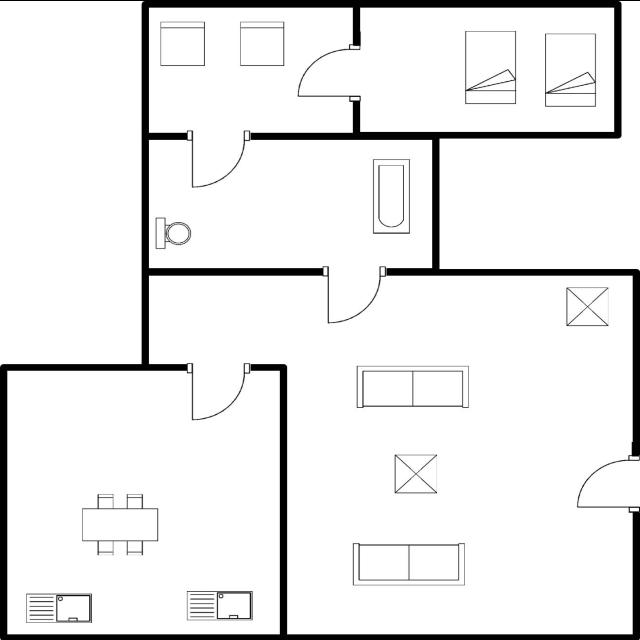bed: (541, 29, 599, 112), (462, 26, 520, 108)
coffee_table: (560, 282, 614, 332), (389, 448, 442, 498)
dining_table: (76, 490, 162, 560)
large_sink: (152, 214, 194, 255)
large_sofa: (346, 536, 470, 590), (352, 361, 472, 413)
sink: (182, 586, 258, 624), (20, 589, 98, 626)
small_sofa: (154, 16, 210, 72), (236, 18, 290, 70)
tub: (368, 157, 414, 240)
